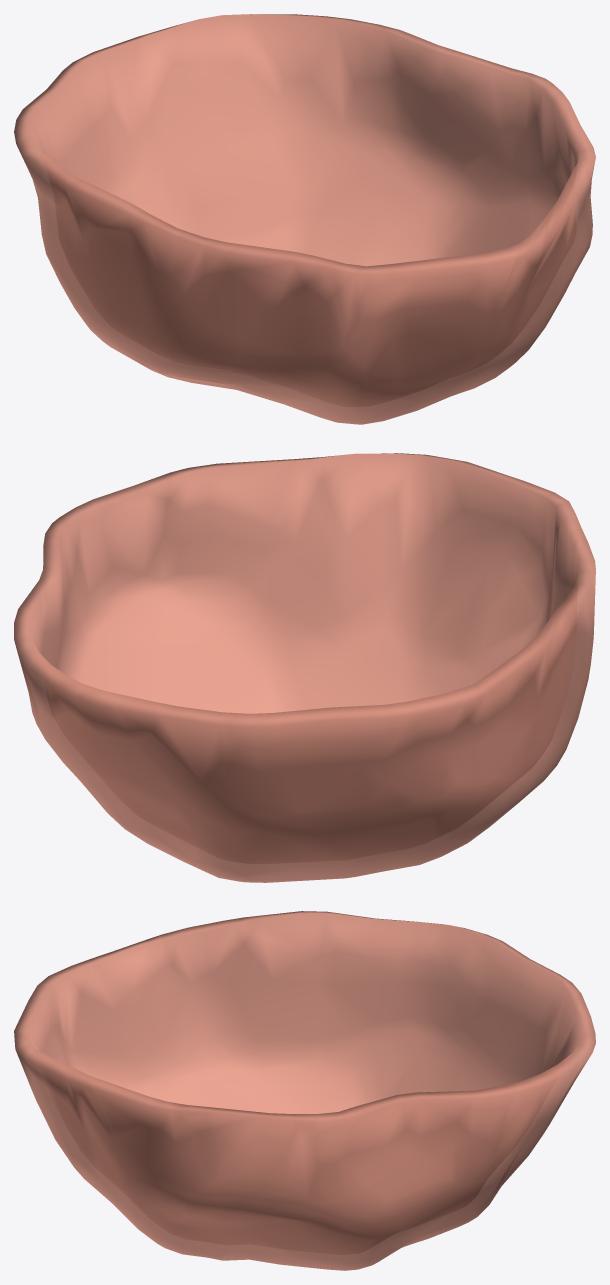
Rendered from wadahnya.glb.
3 views of the same model, one above another, from view 1: azimuth 30°, elevation 25°; view 2: azimuth 150°, elevation 25°; view 3: azimuth 270°, elevation 25° (orthographic). The views are drawn at different scales.
Parts seen in each view (by area): view 1: Sphere; view 2: Sphere; view 3: Sphere.
Boxes of the visible parts, box(x1,y1,x2,y2) form: Sphere: box(14, 14, 595, 424); Sphere: box(14, 453, 595, 882); Sphere: box(14, 911, 595, 1270).
Bounding box in the file's own units: 5.96 × 2.99 × 7.04.
